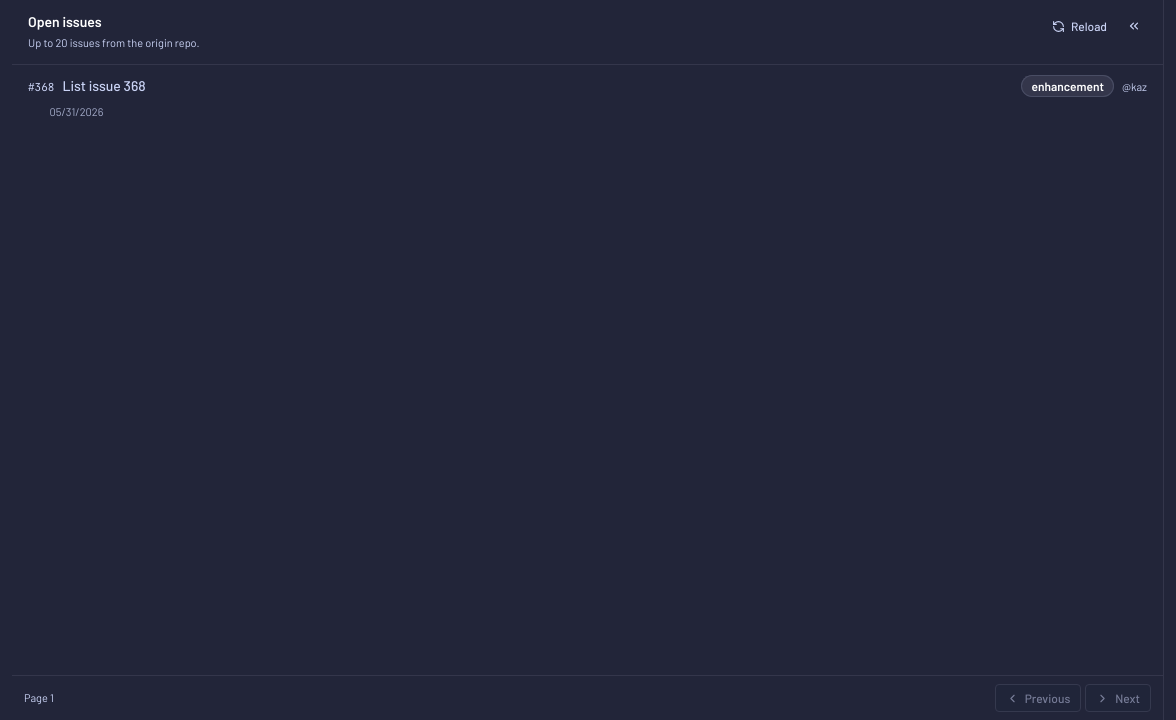
Test: IssueTab › shows an inline error when building the source context fails
Expected: the text "List issue 368" is shown, [62,77,146,94]
Click the button named "List issue 368": (588, 99) [12,65,1163,133]
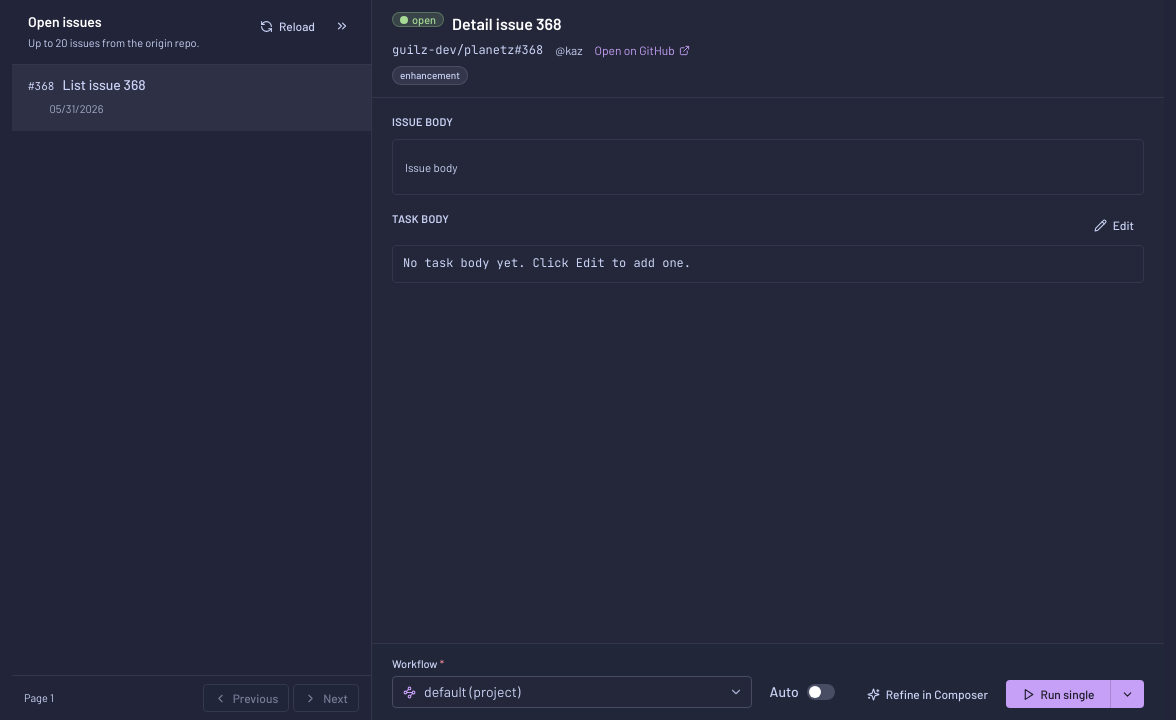
Expected: the heading "Detail issue 368" is shown, [452,14,562,33]
Click the button "Refine in Composer": (927, 694) [857,680,998,708]
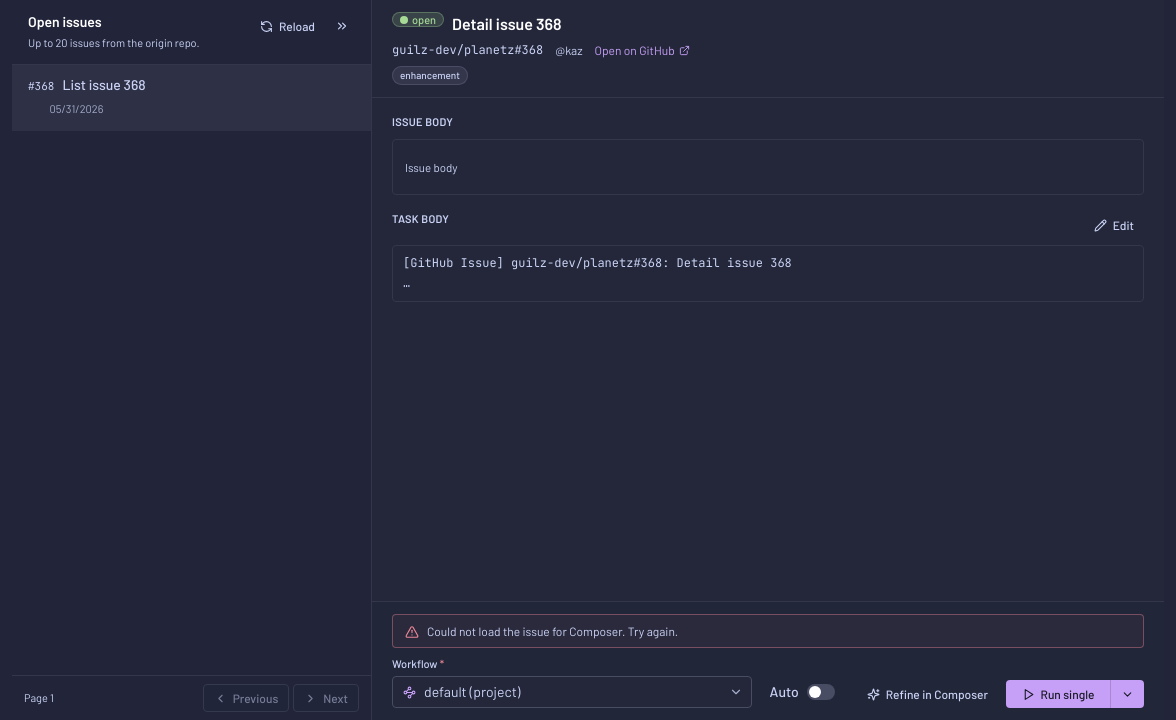
Expected: the text "Could not load the issue for Composer. Try again." is shown, [427,622,678,638]
